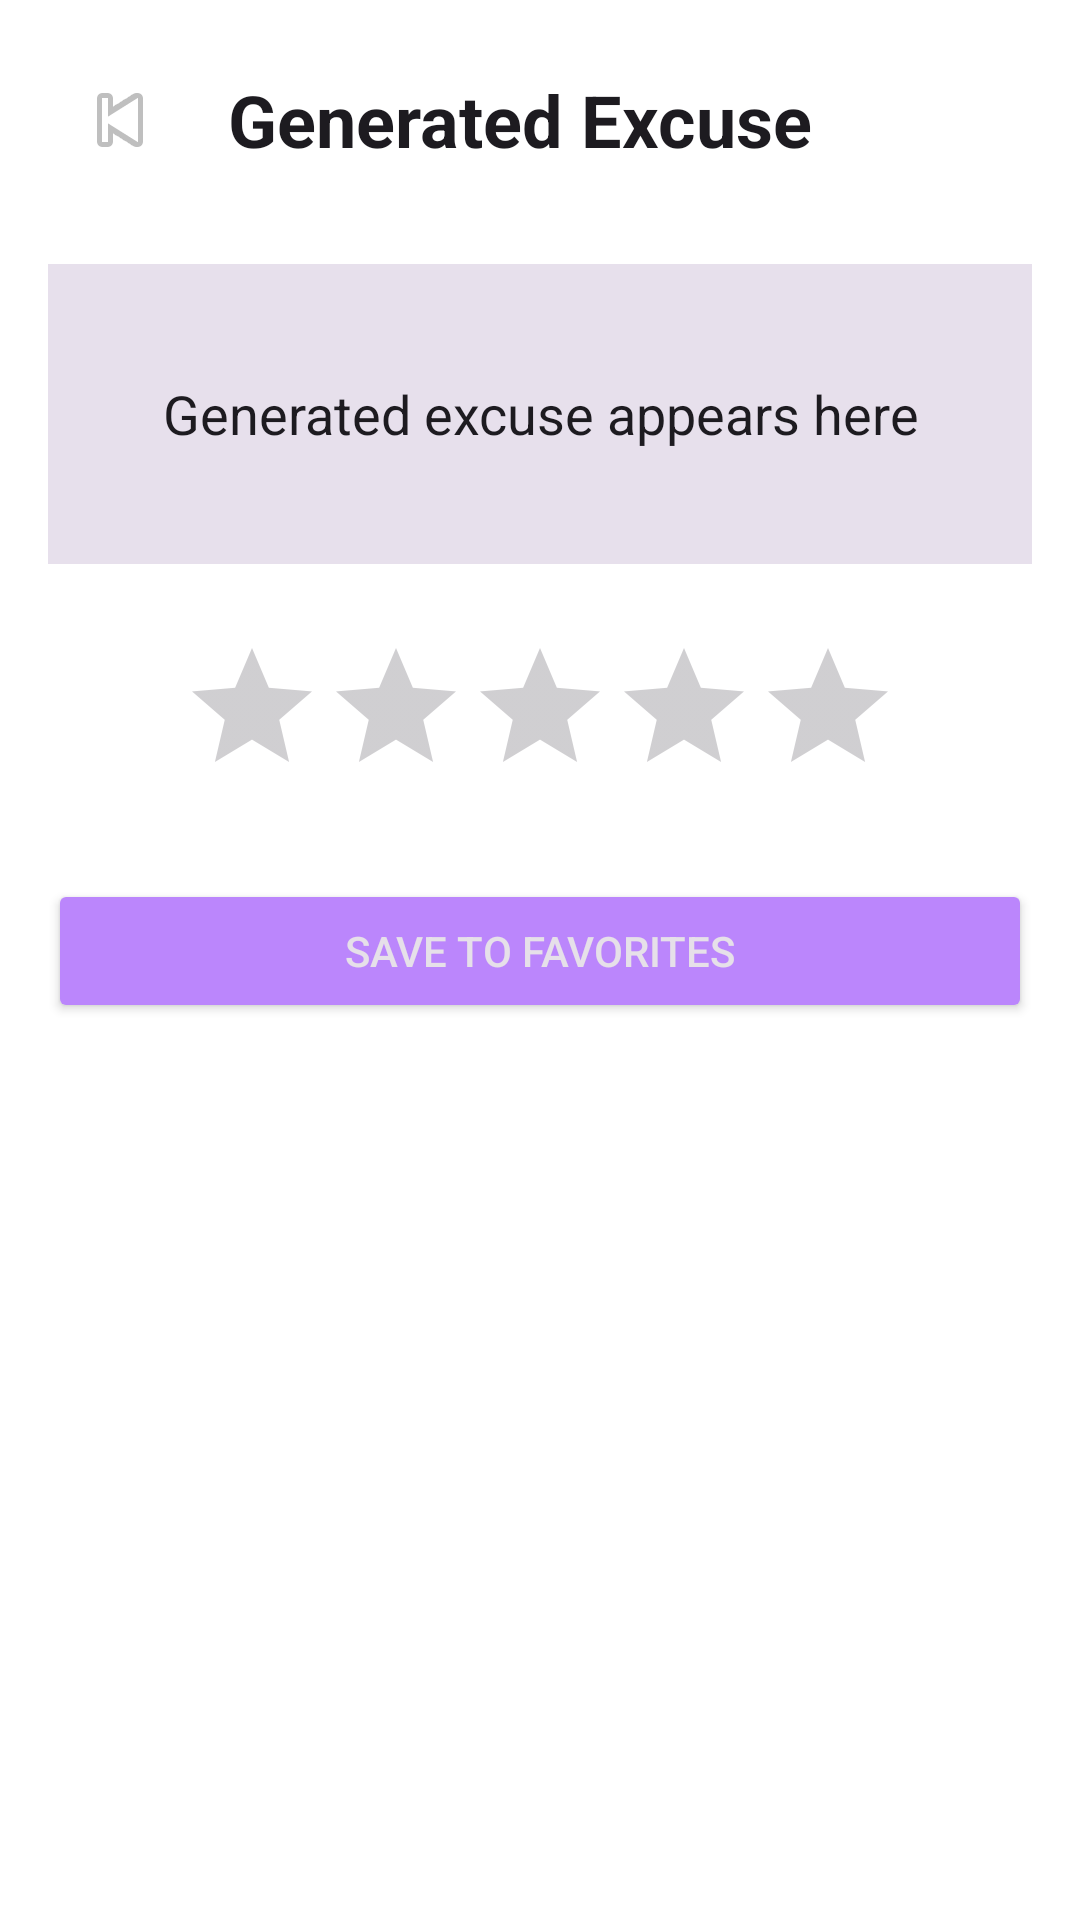

Where to tap for icons on this 1080w x 1920h app screen, as (x=x, y=y):
Back: (x=120, y=120)
